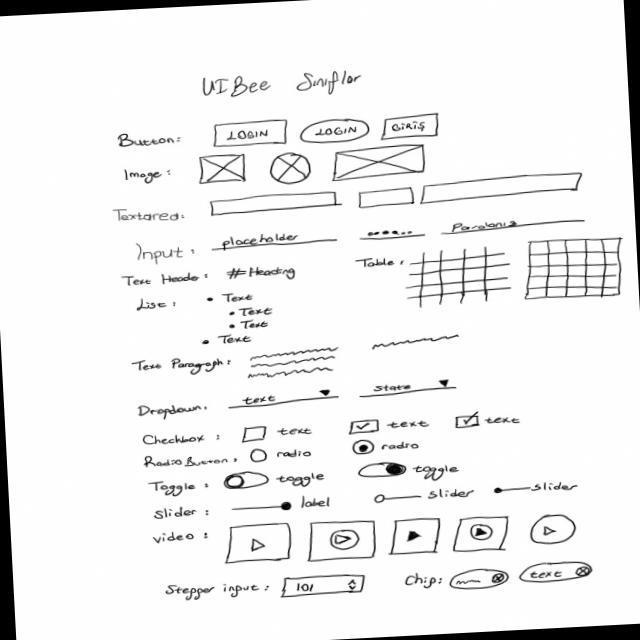button: (211, 119, 291, 150), (300, 118, 372, 146), (380, 113, 442, 142)
checkbox: (347, 418, 433, 437), (240, 424, 317, 445), (453, 410, 522, 432)
image: (330, 144, 429, 184), (199, 154, 249, 187), (270, 152, 313, 187)
input: (420, 172, 586, 207), (211, 191, 340, 218), (211, 230, 341, 254), (441, 216, 588, 237), (358, 187, 418, 211), (358, 227, 429, 242)
label: (203, 69, 364, 103), (165, 580, 272, 604), (132, 356, 234, 380), (143, 452, 240, 471), (137, 241, 198, 267), (136, 402, 211, 423), (120, 271, 210, 288), (113, 205, 187, 225), (227, 265, 297, 286), (142, 432, 227, 448), (148, 479, 212, 500), (117, 131, 184, 151), (153, 505, 212, 523), (123, 168, 174, 188), (153, 529, 211, 546), (412, 464, 461, 484), (276, 472, 328, 489), (134, 297, 180, 314), (404, 572, 445, 591), (354, 257, 409, 271), (533, 480, 581, 495), (429, 488, 477, 502), (300, 496, 334, 511), (240, 306, 277, 319), (222, 292, 258, 304), (219, 334, 255, 346), (240, 320, 271, 332)
number-input: (280, 572, 370, 600)
radio: (353, 438, 420, 457), (250, 446, 314, 465)
select: (227, 389, 342, 411), (358, 379, 459, 401)
slider: (231, 501, 294, 515), (374, 492, 424, 505), (492, 485, 533, 495)
table: (522, 236, 627, 303), (404, 246, 514, 309)
text: (374, 334, 462, 351)
textbox: (246, 347, 343, 382)
toggle: (224, 471, 272, 492), (358, 462, 408, 480)
